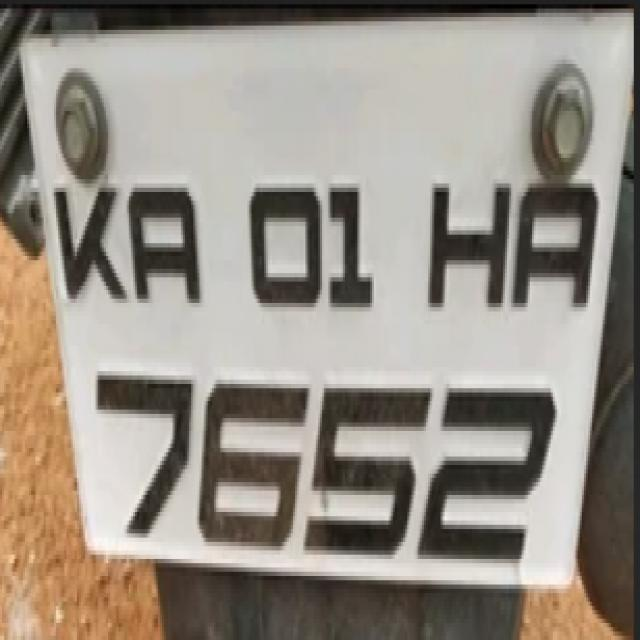0: (240, 168, 324, 321)
1: (327, 162, 382, 324)
5: (299, 384, 440, 566)
6: (191, 365, 317, 560)
7: (91, 356, 205, 549)
A: (508, 171, 607, 325), (125, 147, 207, 325)
H: (426, 160, 519, 321)
K: (51, 166, 132, 322)
